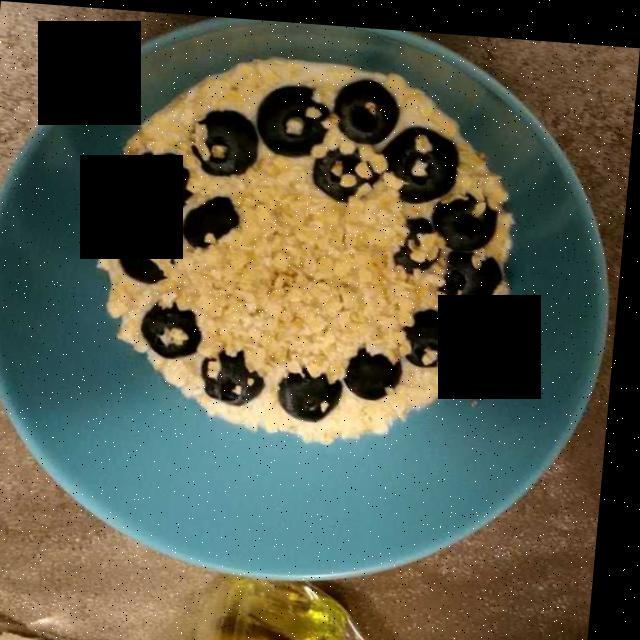blueberries: (110, 85, 509, 435)
oats: (96, 56, 518, 461)
